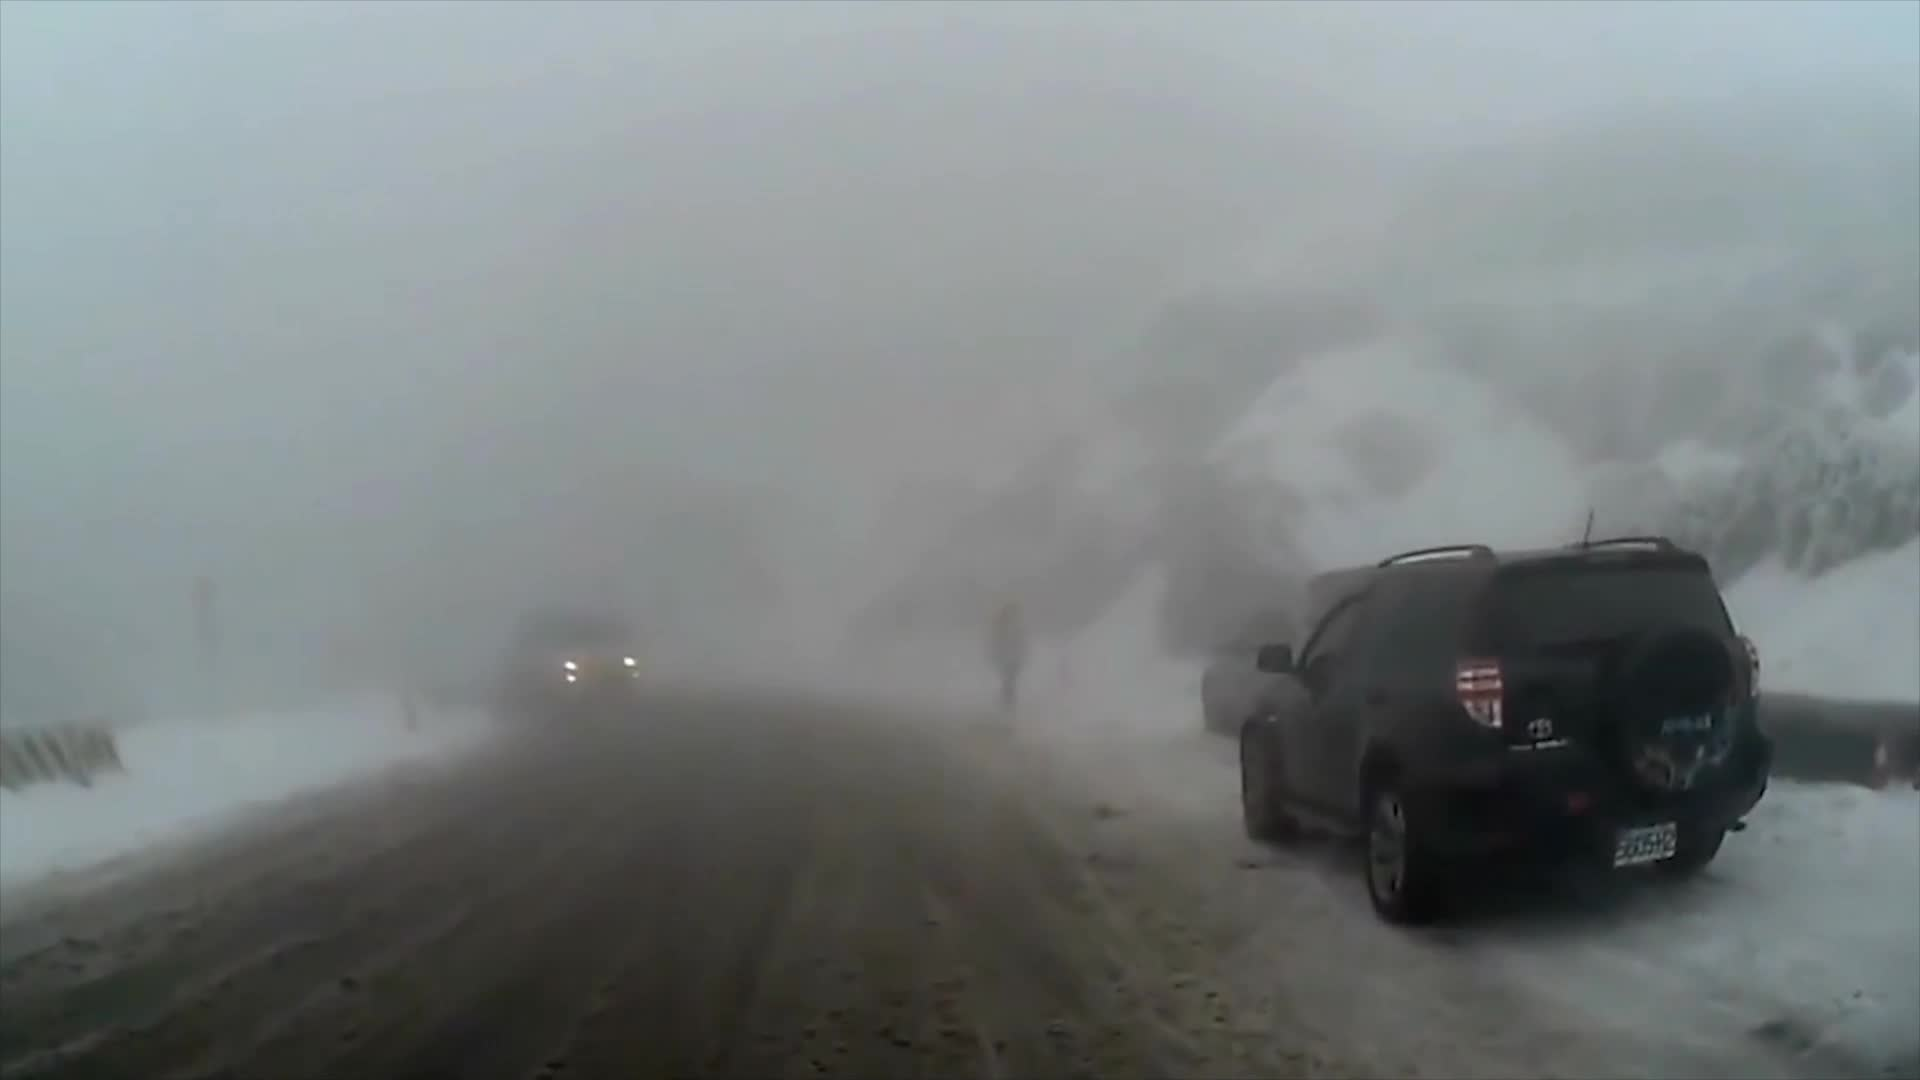vehicle: (1236, 535, 1774, 934), (514, 615, 647, 717)
